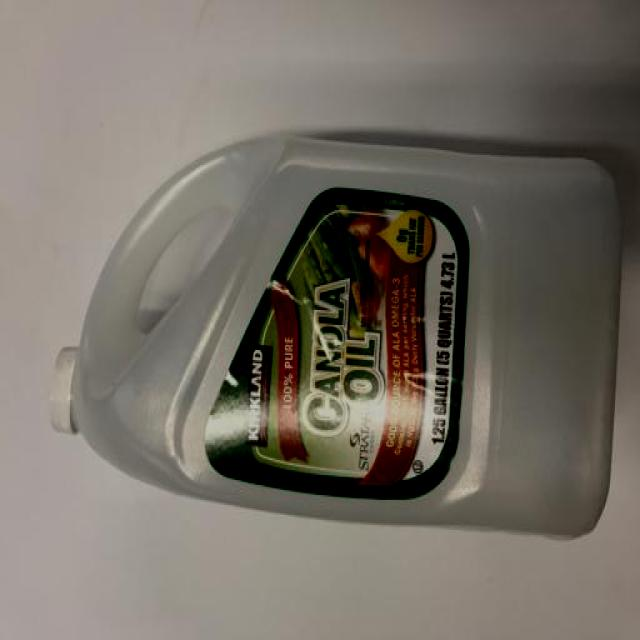Recycle: (34, 135, 585, 534)
